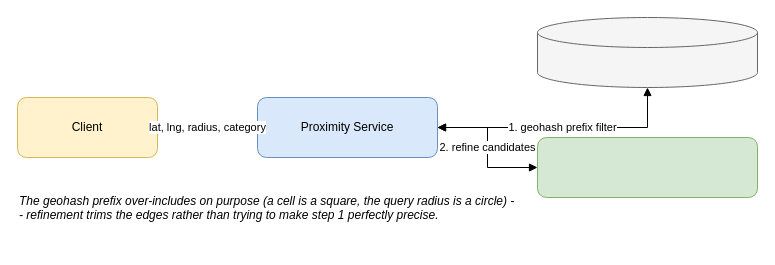
The diagram is 775 pixels wide and 265 high, and some of its shapes have lost their labels. Here are the shapes that lost their labels. From the top down, the centre of each, then its label:
(x=647, y=52): SQL: points_of_interest indexed on geohash
(x=647, y=167): Refine step exact Haversine distance
